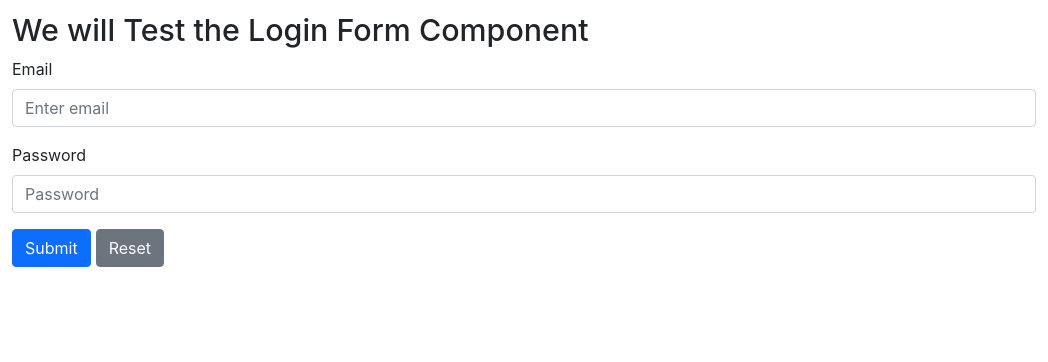
it: Test the Login Component › should be able to submit the form
The width and height of the screenshot is (1048, 362).
Type "dipesh@gmail.com" into the field with placeholder "Enter email" at point(524, 108), box [12, 88, 1036, 126]
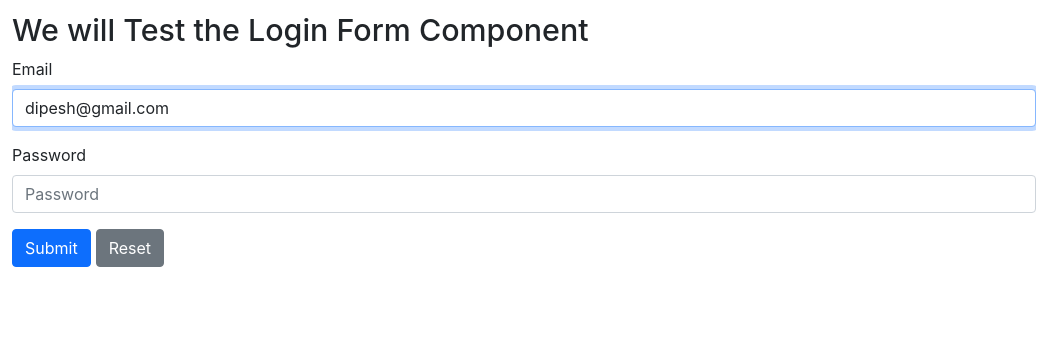
Type "123456" into the password field with placeholder "Password" at point(524, 194), box [12, 174, 1036, 212]
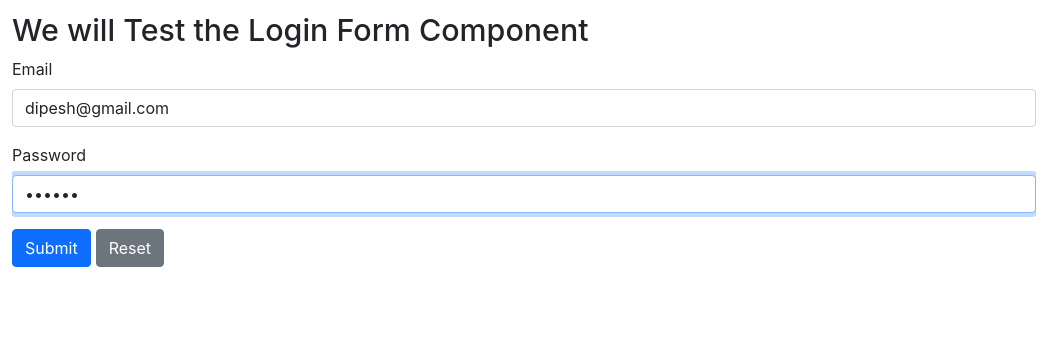
Click the button "Submit" at point(51, 248), box [12, 228, 91, 266]
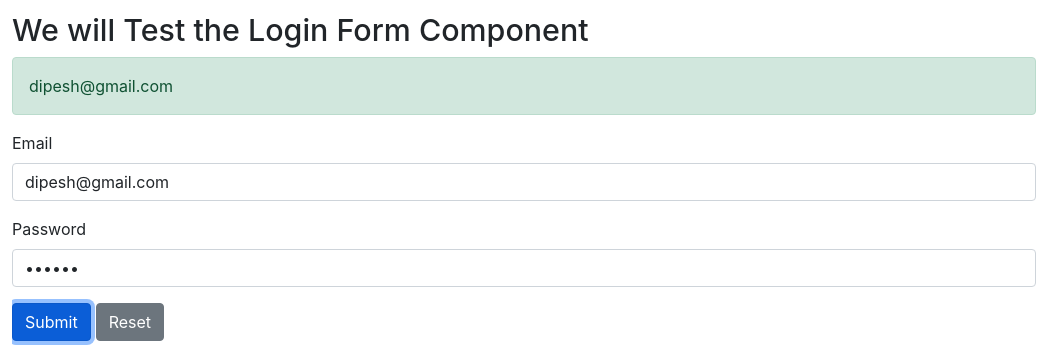
expect the text "dipesh@gmail.com" is shown: met, box [12, 56, 1036, 114]
